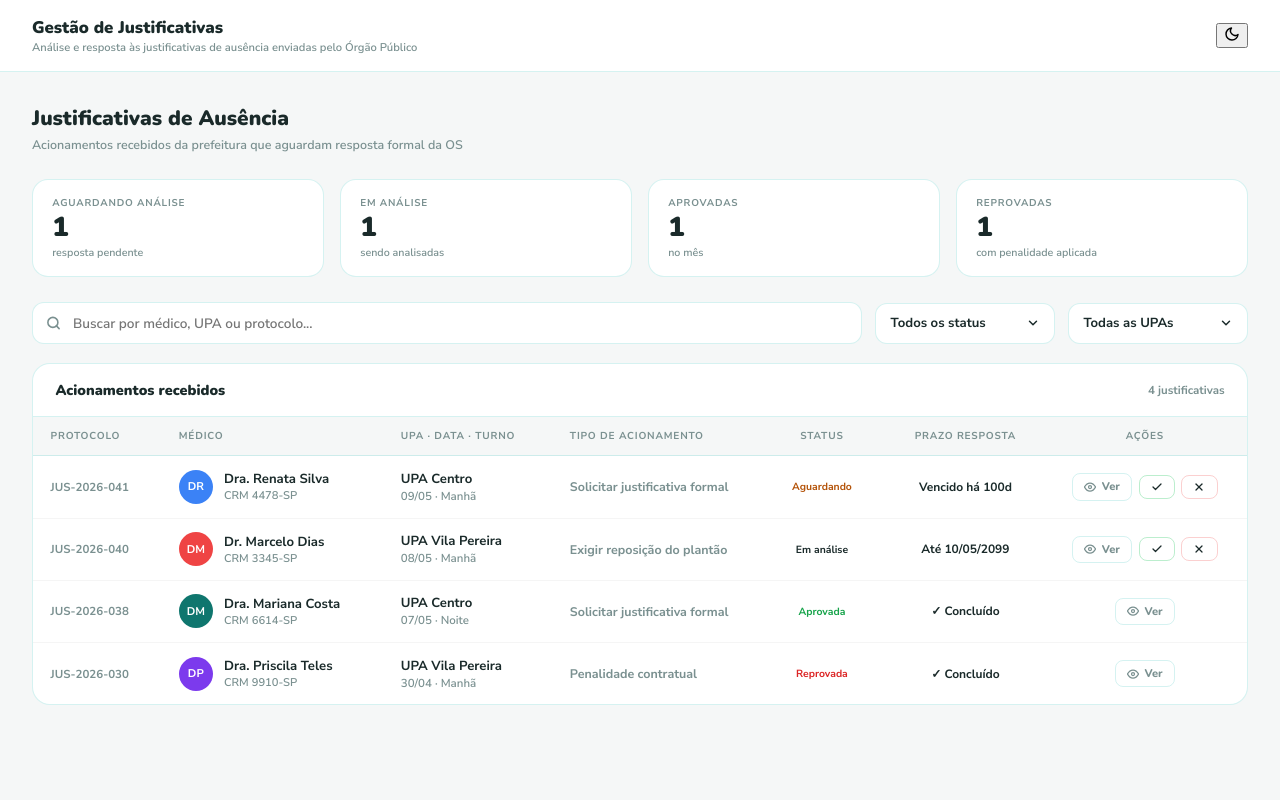
Scenario: <AdminJustificativas /> › campo de busca funcional (filtra por médico)
This screenshot has width=1280, height=800.
Expected: the text "JUS-2026-041" is shown, [51,479,129,495]
In the field with placeholder "Buscar por médico, UPA ou protocolo...": x=447, y=323 [32,302,862,344], type "Marcelo"
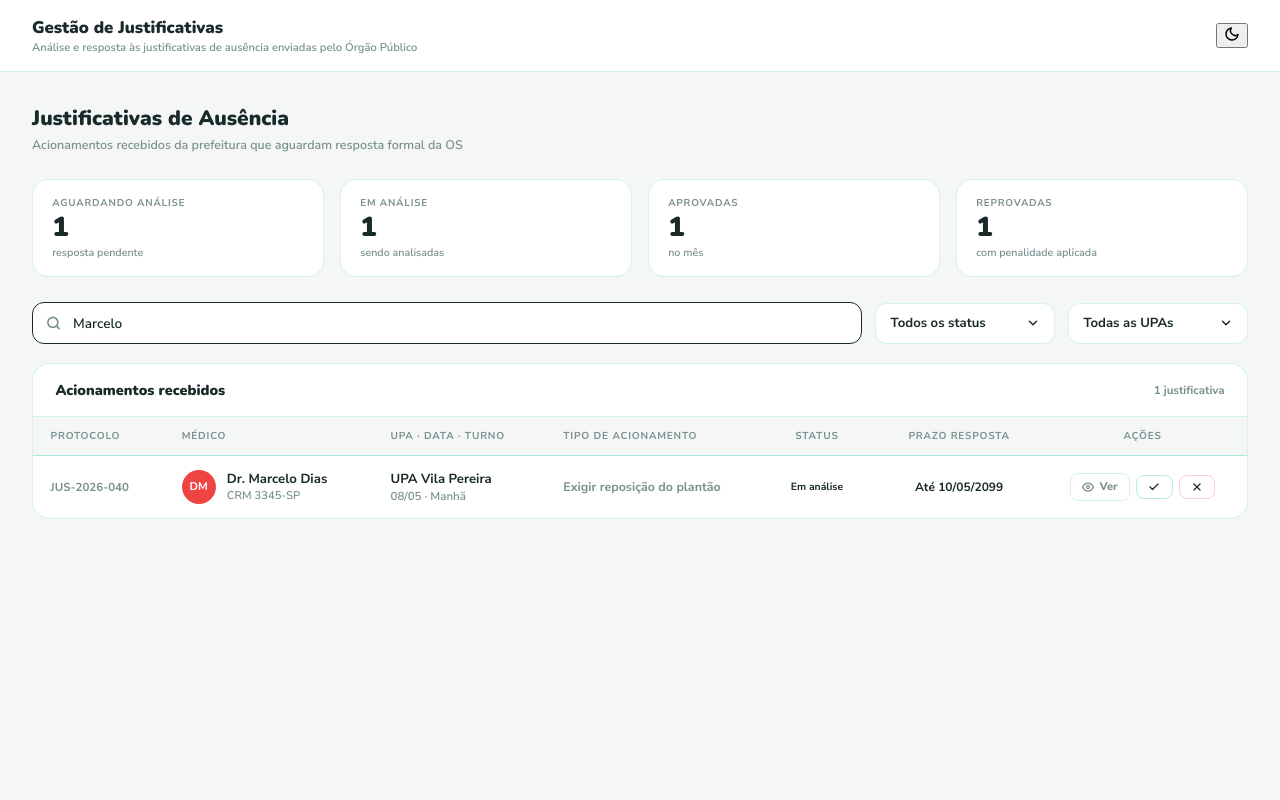
Expected: the table shows "JUS-2026-040", [51,479,129,495]
Expected: the text "JUS-2026-041" is gone
